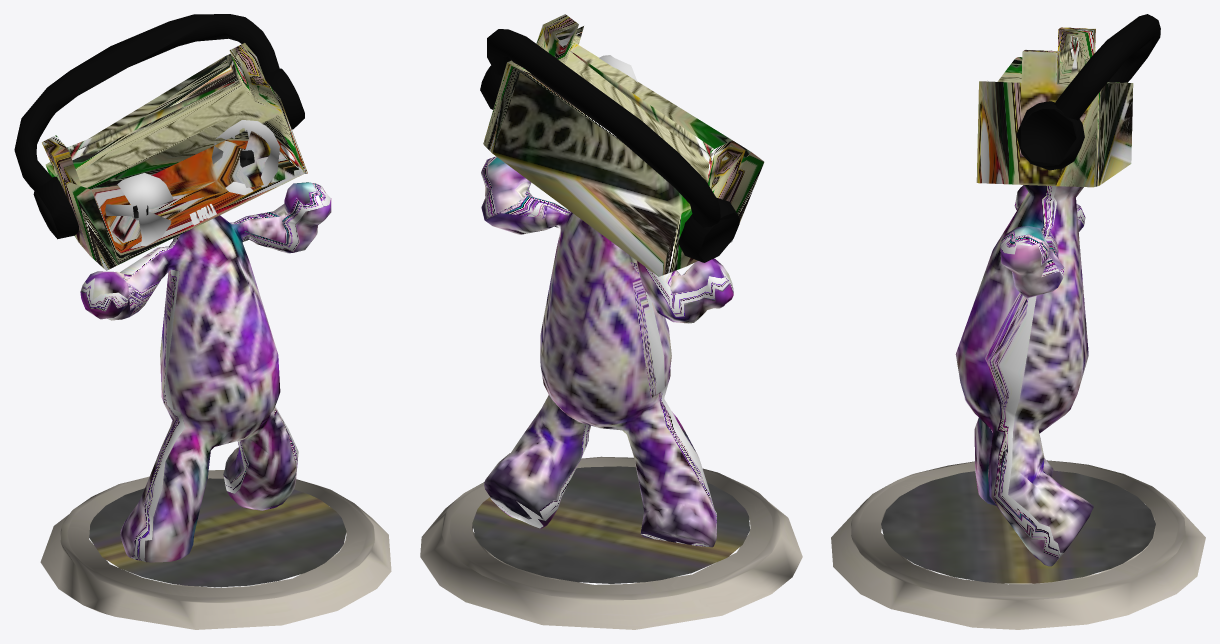
3 renders of one model, left to right at view 1: azimuth 30°, elevation 25°; view 2: azimuth 150°, elevation 25°; view 3: azimuth 270°, elevation 25°, orthographic. The views are drawn at different scales.
Size of the model in its own units: 1.45 by 2.24 by 1.43.
8 materials, 4 textured.
